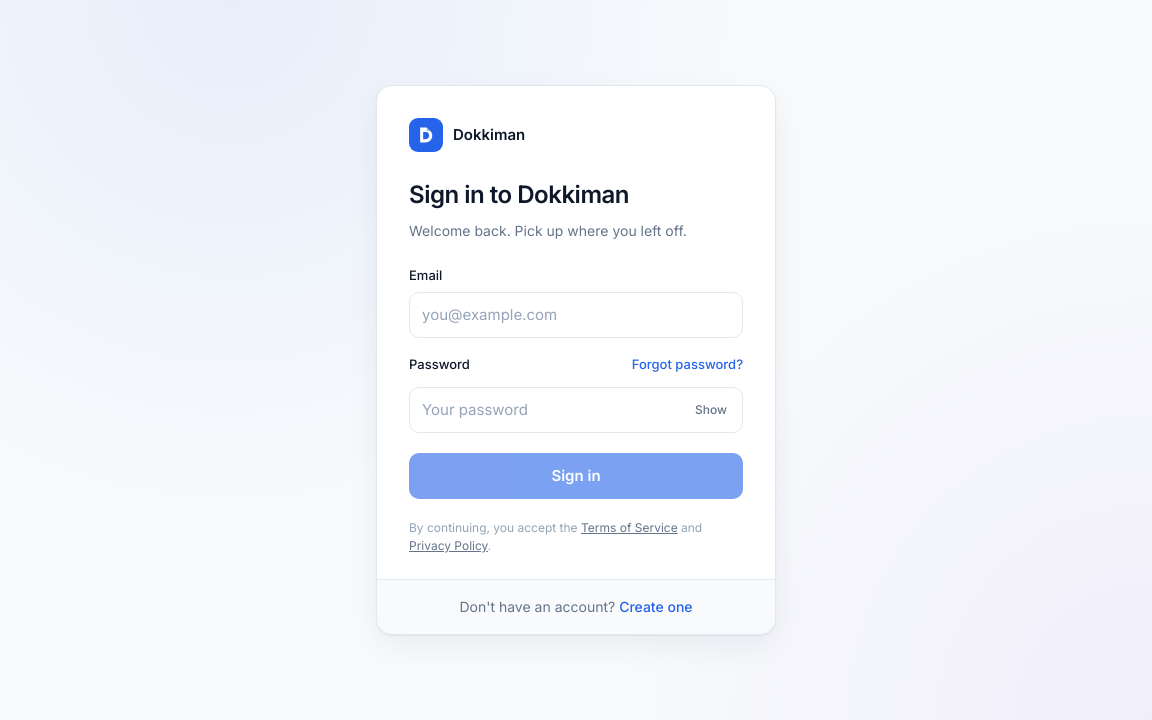
Scenario: shows the server error for a wrong password
The width and height of the screenshot is (1152, 720).
Step 1. Type "me@example.com" into the field labelled "Email" → (576, 315), box left=409, top=292, right=743, bottom=338
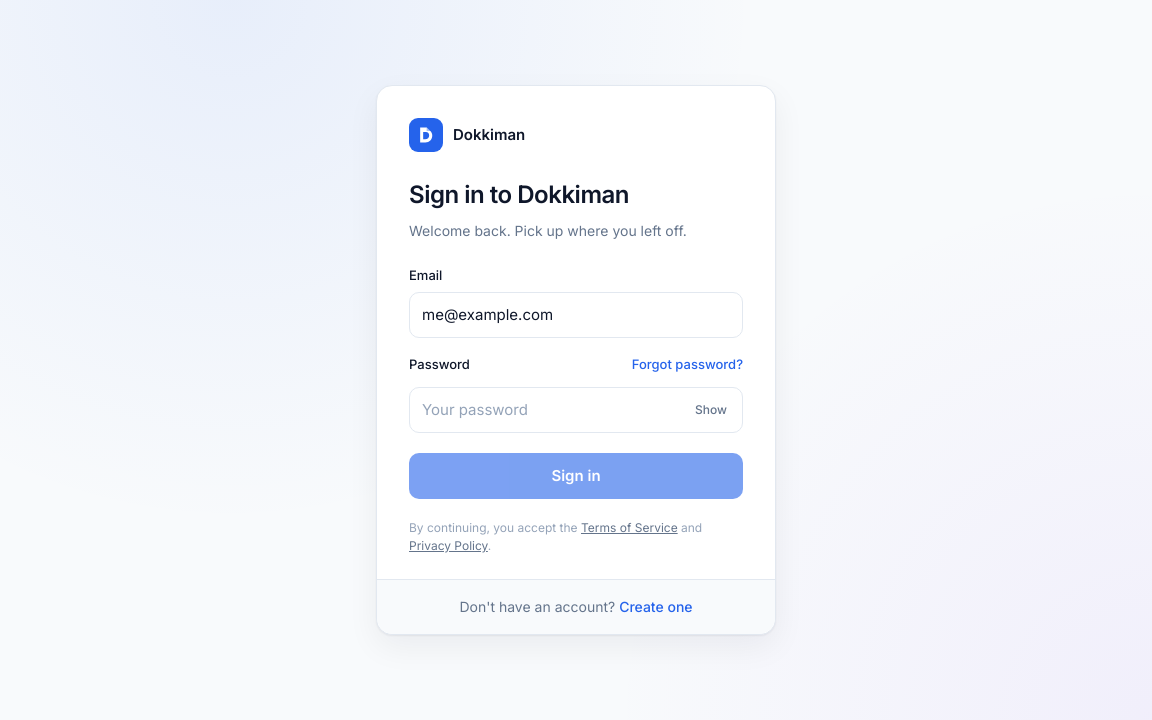
Step 2. Type "wrong-password" into the password field labelled "Password" → (576, 410), box left=409, top=387, right=743, bottom=433
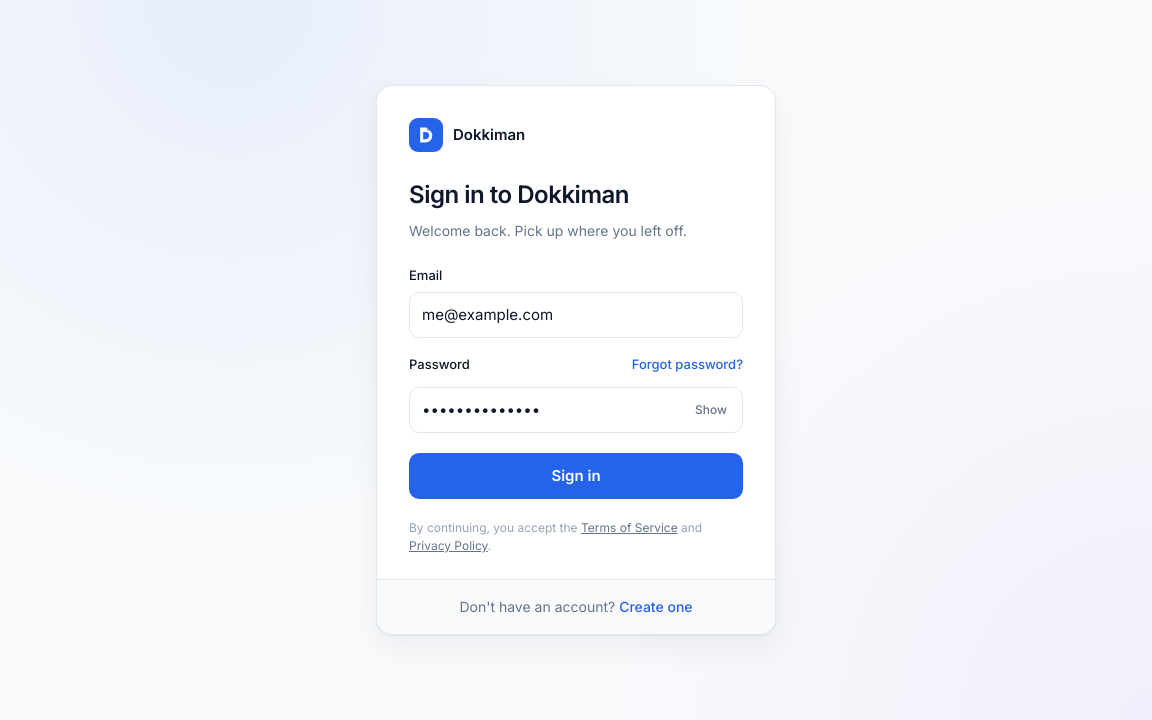
Step 3. Click the button "Sign in" → (576, 476), box left=409, top=453, right=743, bottom=499
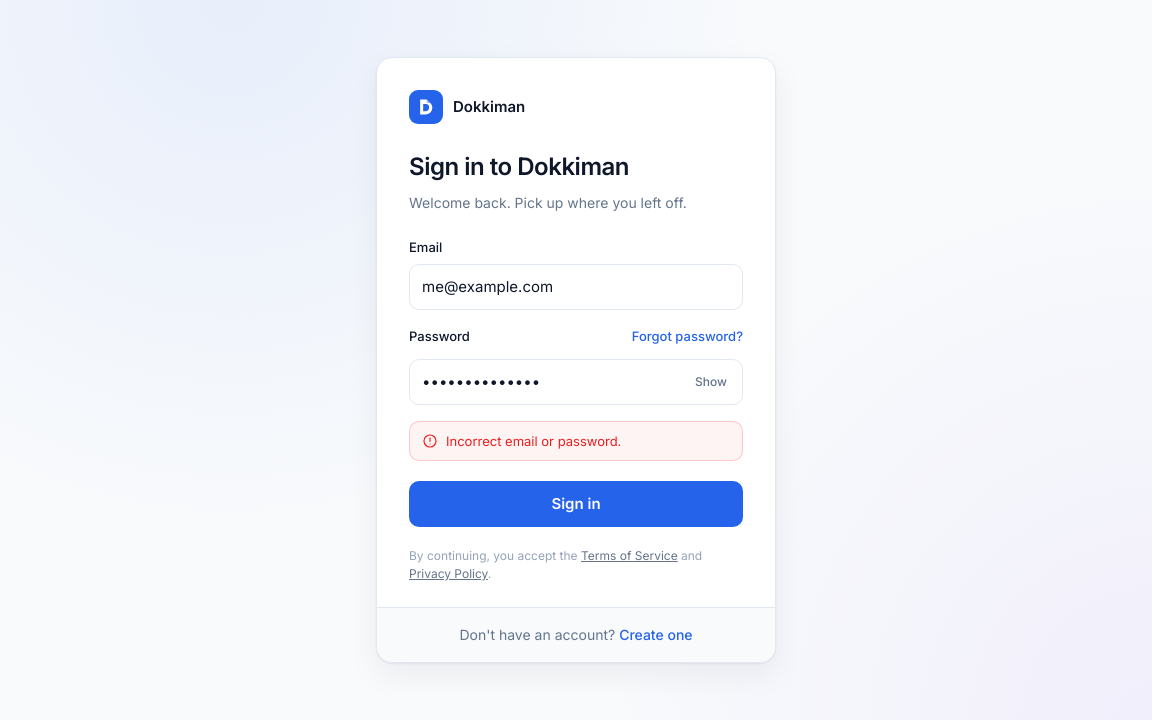
Check: the message reads "Incorrect email or password.", box left=446, top=433, right=621, bottom=449
